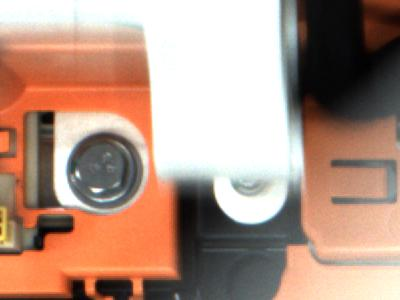nut_b: (60, 124, 142, 215)
